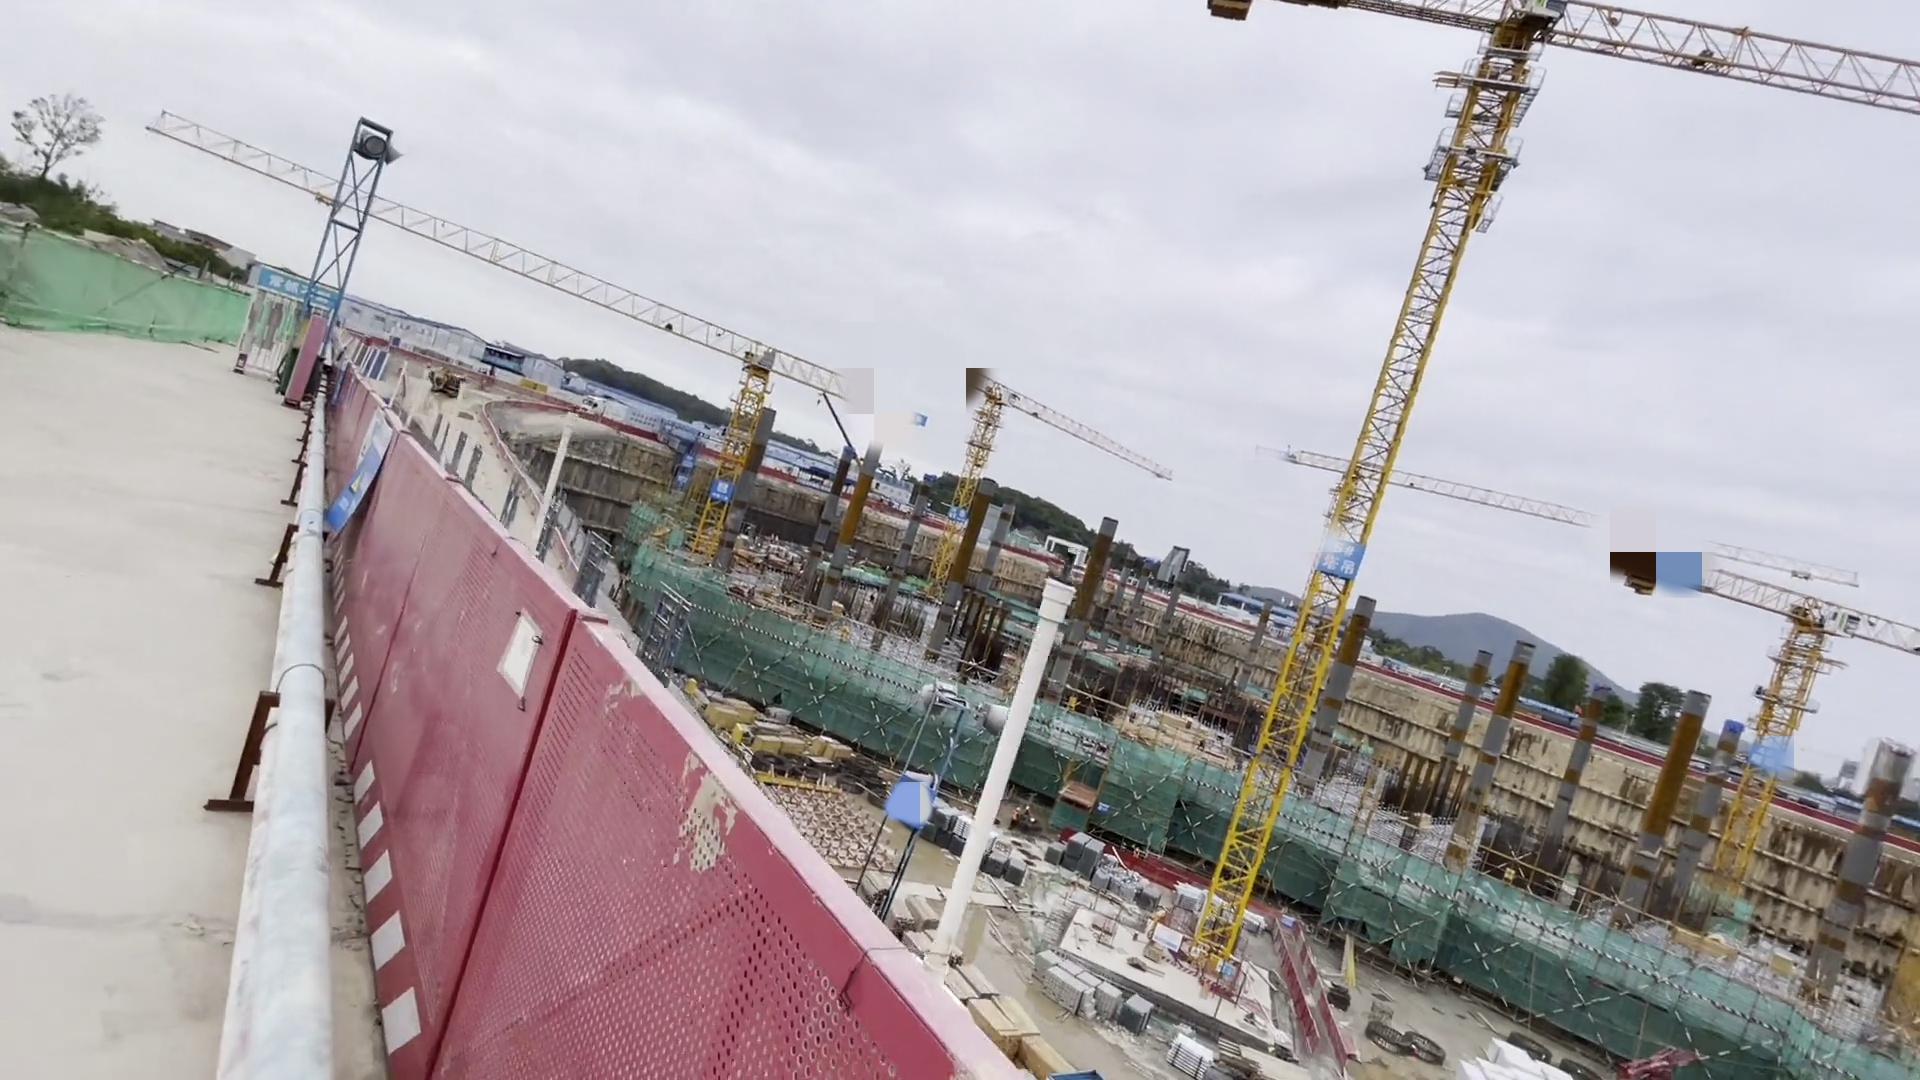brick: (1038, 943, 1174, 1036)
fence: (269, 388, 1025, 1077), (1236, 877, 1371, 1051)
scaffold: (1159, 1027, 1209, 1080)
slogan: (320, 409, 404, 543), (233, 255, 356, 324)
wood: (911, 895, 1087, 1072)
